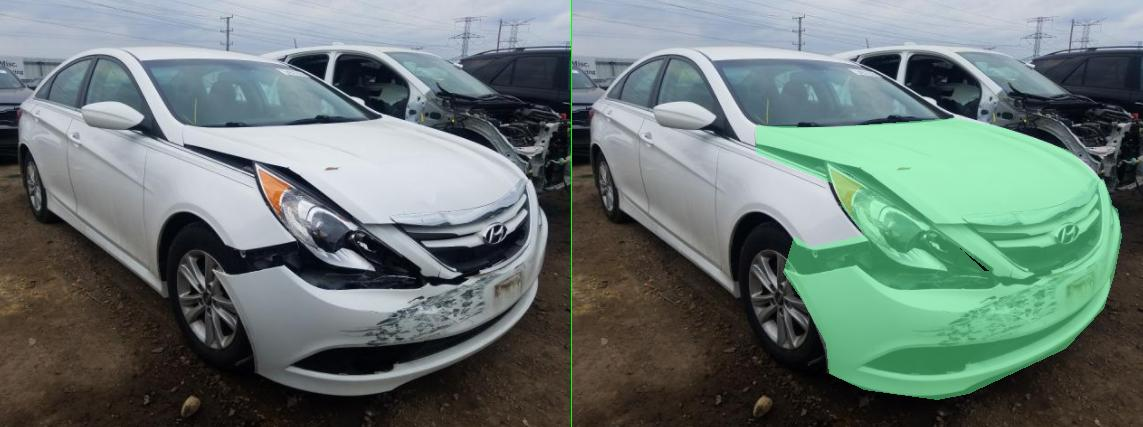Broken part: (422, 179, 1099, 399), (368, 118, 1057, 233), (508, 163, 837, 276), (727, 180, 1079, 283)
Paint chip: (663, 261, 1029, 346), (645, 165, 681, 172)
